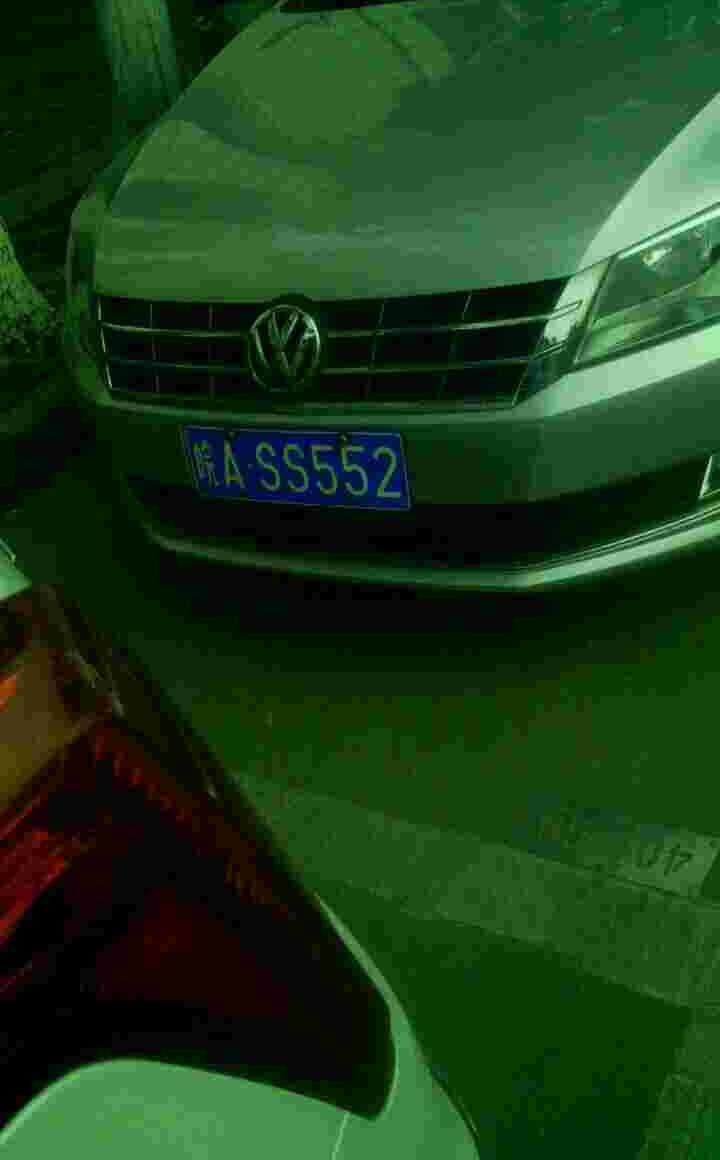license_plate: (179, 425, 414, 518)
